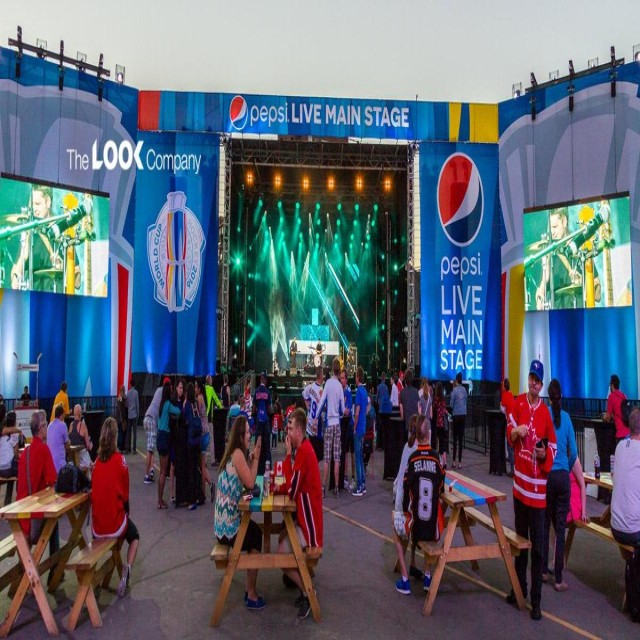pepsi: (437, 150, 486, 245), (230, 95, 250, 132)
